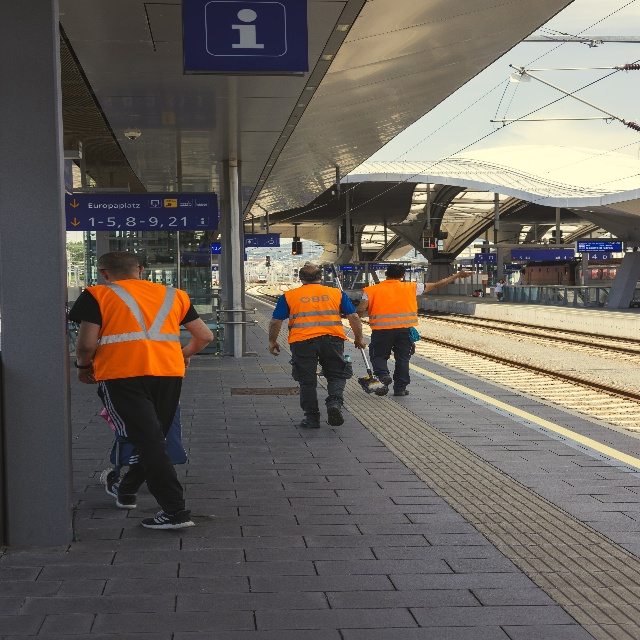Sin_guantes: (76, 362, 98, 385), (458, 267, 476, 279), (353, 338, 367, 352), (181, 349, 190, 370), (269, 340, 280, 357)
